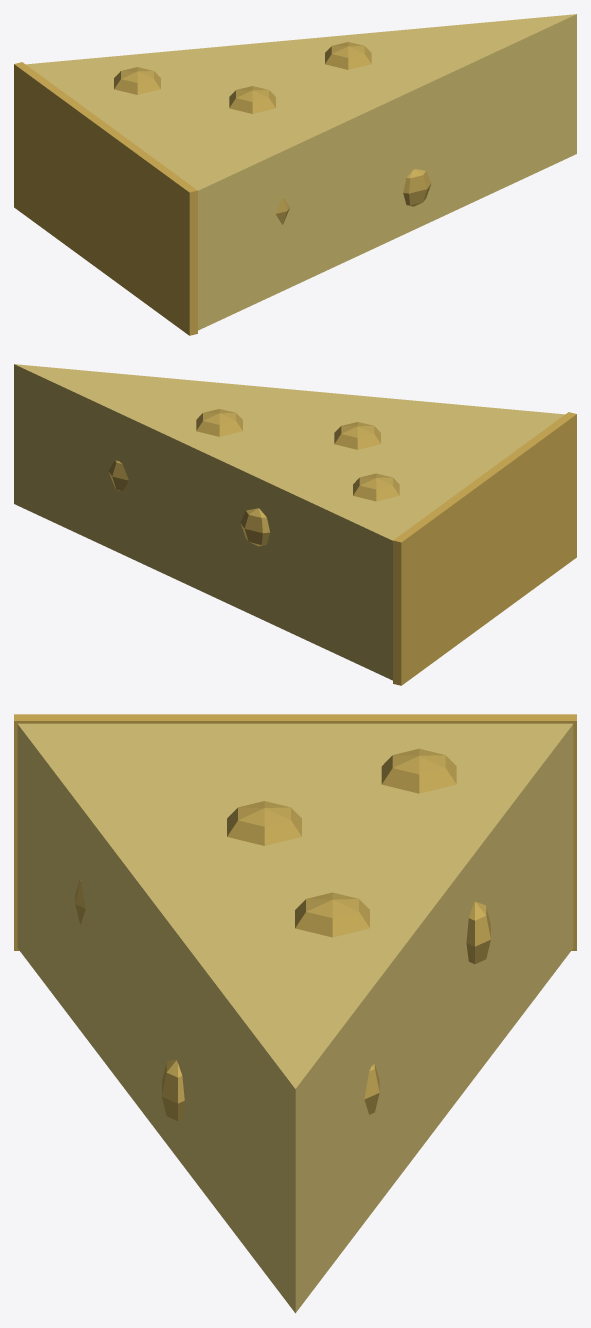
The model's file is cheese-wedge.glb.
3 views of the same model, one above another, from view 1: azimuth 30°, elevation 25°; view 2: azimuth 150°, elevation 25°; view 3: azimuth 270°, elevation 25° (orthographic). The views are drawn at different scales.
Visible parts, largest first — view 1: cheese-wedge; view 2: cheese-wedge; view 3: cheese-wedge.
Part boxes in pixels (x1,y1,x2,y2): cheese-wedge: [14, 14, 576, 335]; cheese-wedge: [14, 364, 576, 685]; cheese-wedge: [14, 714, 576, 1313].
Size of the model in its own units: 15 by 4.96 by 9.6.
